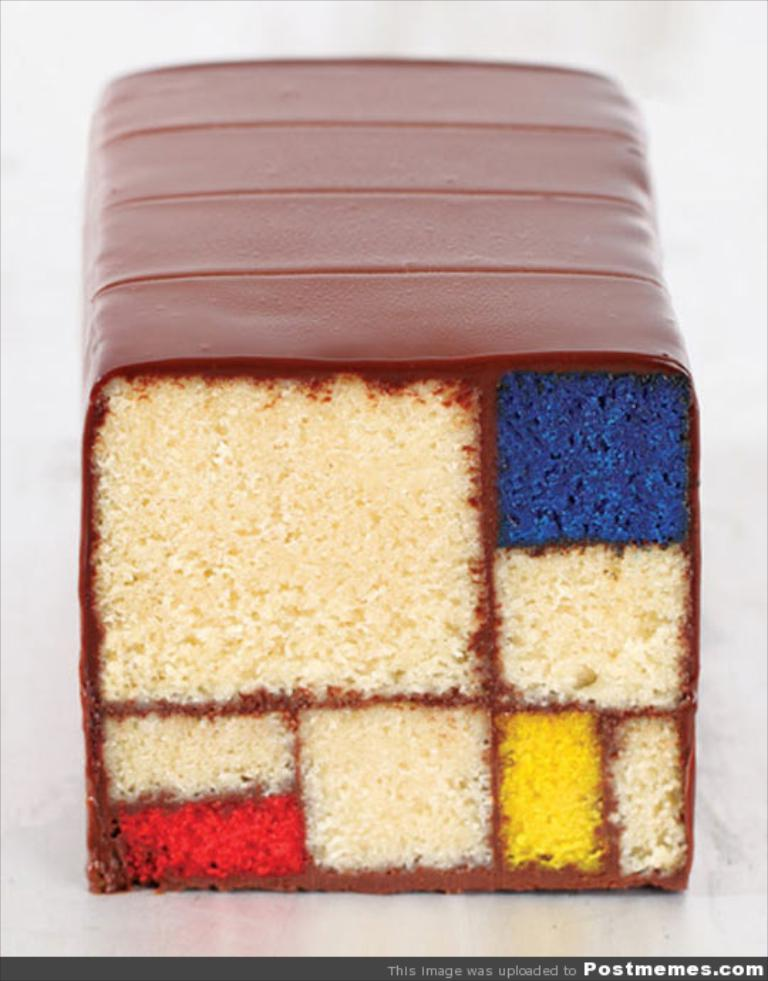cake: (75, 50, 697, 891)
